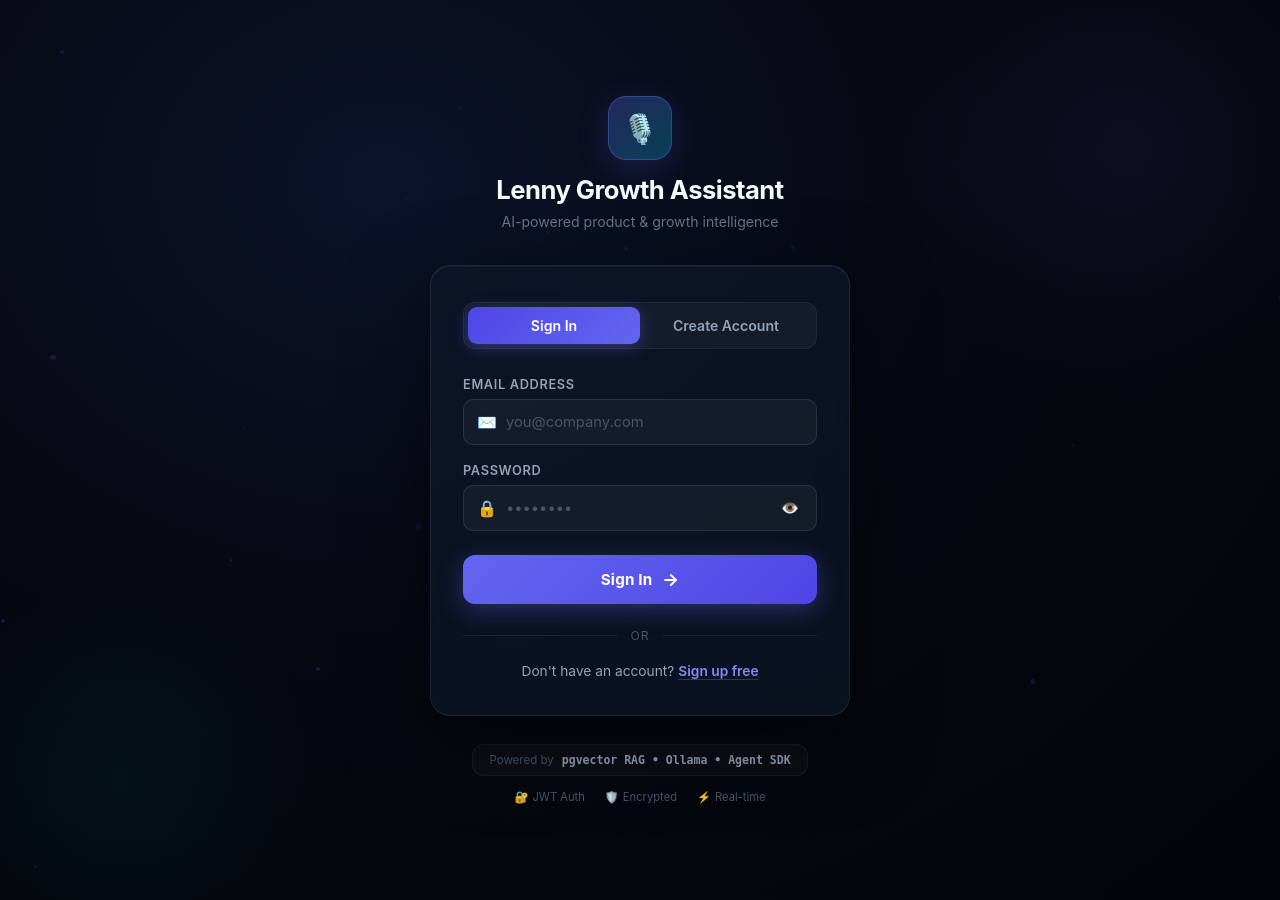
Test: AuthPage Component › switches to create account registration tab
The width and height of the screenshot is (1280, 900).
Click the button "Create Account" at [726, 325], box 640,306 -> 812,344
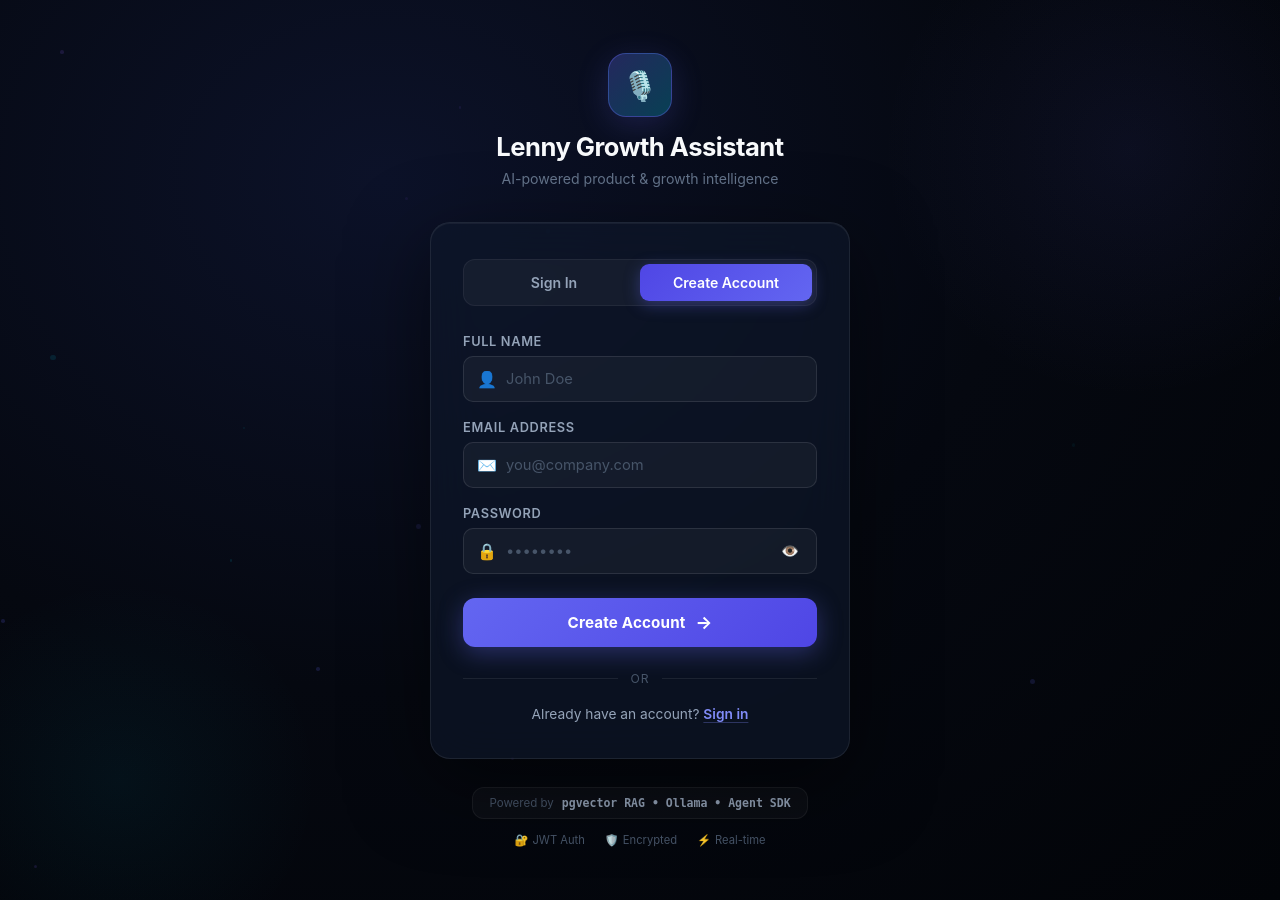
Expected: the field with placeholder "John Doe" is shown, 463,356 -> 817,402
Expected: the text "Already have an account?" is shown, 532,706 -> 700,722
